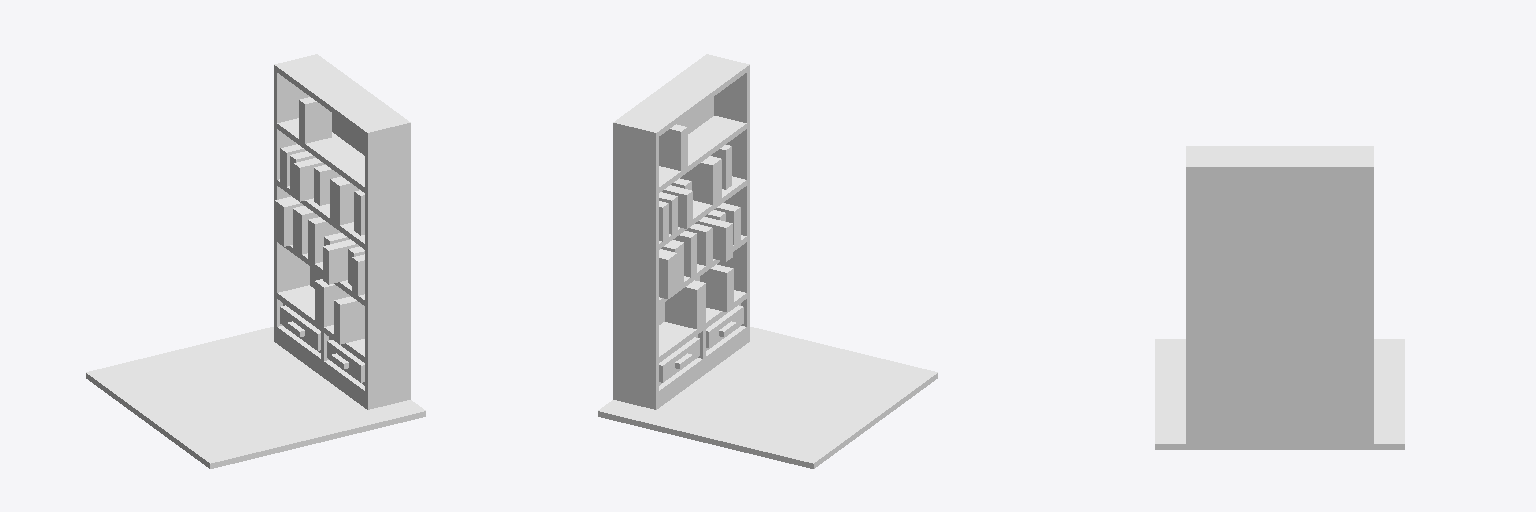
The model's file is Prateleira_2.obj.
3 views of the same model, side by side, from view 1: azimuth 30°, elevation 25°; view 2: azimuth 150°, elevation 25°; view 3: azimuth 270°, elevation 25° (orthographic).
Bounding box in the file's own units: 40 × 50 × 40.